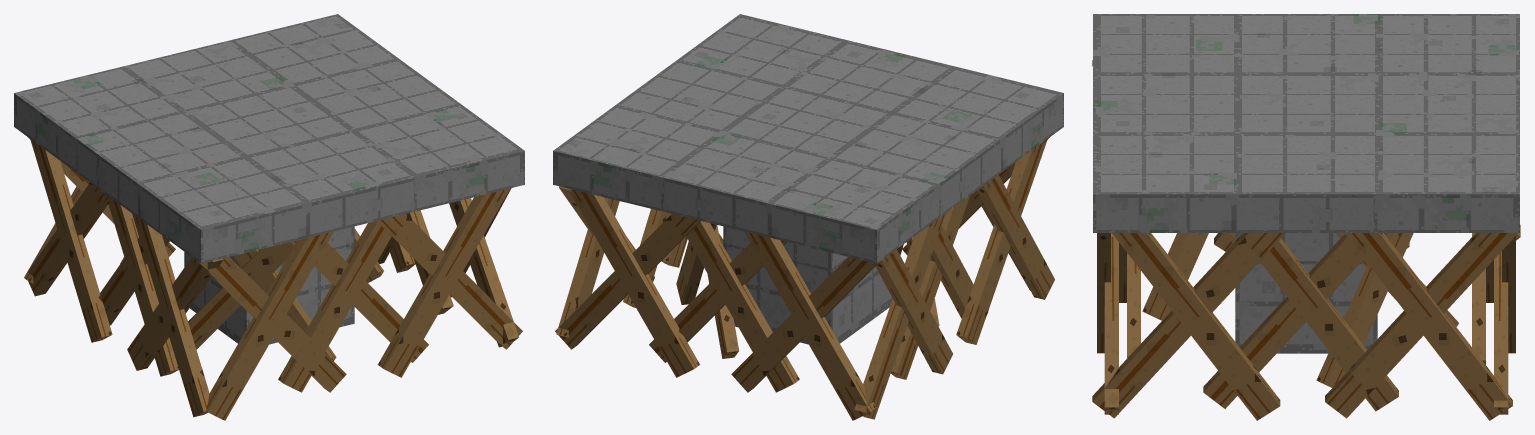
Rendered from C3_TP plat.FBX.
The picture shows the model from 3 angles, left to right: view 1: azimuth 30°, elevation 25°; view 2: azimuth 150°, elevation 25°; view 3: azimuth 270°, elevation 25°; orthographic projection. The views are drawn at different scales.
Visible parts, largest first — view 1: Box006, Box012, Box010, Box032, Box030, Box014, Box011, Box013, Box034, Box031, Box033, Box039 (+7 smaller); view 2: Box006, Box020, Box018, Box022, Box019, Box031, Box021, Box033, Box030, Box032, Box023, Box035 (+6 smaller); view 3: Box006, Box026, Box024, Box025, Box027, Box028, Box029, Box036, Box013, Box021, Box038, Box012 (+4 smaller).
Part boxes in pixels (x1,y1,x2,y2): Box006: (14,14,524,344); Box012: (377,188,510,377); Box010: (206,231,333,420); Box032: (30,139,112,342); Box030: (132,213,209,417); Box014: (278,221,391,392); Box011: (198,257,346,392); Box013: (377,214,522,349); Box034: (108,199,178,376); Box031: (127,257,223,370); Box033: (27,183,111,296); Box039: (188,242,293,349); Box006: (553,14,1063,344); Box020: (570,189,700,377); Box018: (744,231,876,420); Box022: (686,221,799,392); Box019: (731,257,879,392); Box031: (956,140,1047,344); Box021: (555,214,700,349); Box033: (854,213,945,419); Box030: (977,175,1054,299); Box032: (875,249,952,374); Box023: (649,240,787,362); Box035: (890,196,969,379); Box006: (1093,14,1519,353); Box026: (1112,233,1280,420); Box024: (1344,233,1512,420); Box025: (1325,225,1520,418); Box027: (1092,233,1285,418); Box028: (1238,233,1398,411); Box029: (1203,233,1387,408); Box036: (1316,233,1413,387); Box013: (1104,233,1118,414); Box021: (1494,251,1508,414); Box038: (1142,233,1208,320); Box012: (1097,233,1110,353).
Size of the model in its own units: 358 by 208 by 355.
1 material, 1 textured.
